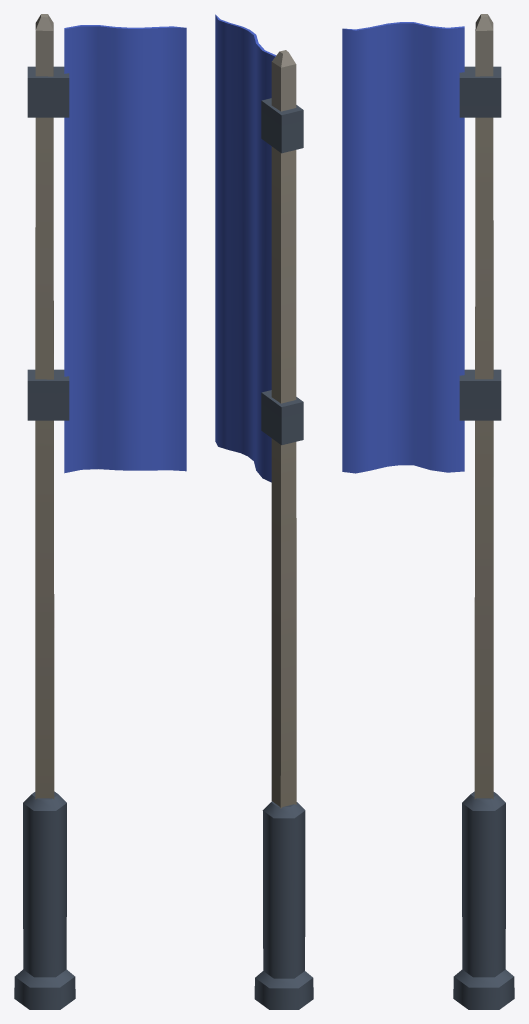
File: FlagRace_G.fbx
The picture shows the model from 3 angles, left to right: view 1: azimuth 90°, elevation 25°; view 2: azimuth 210°, elevation 25°; view 3: azimuth 270°, elevation 25°; orthographic projection. The views are drawn at different scales.
Parts seen in each view (by area): view 1: FlagRace_G; view 2: FlagRace_G; view 3: FlagRace_G.
Boxes of the visible parts, box(x1,y1,x2,y2) form: FlagRace_G: box(14, 14, 186, 1009); FlagRace_G: box(215, 14, 313, 1009); FlagRace_G: box(342, 14, 514, 1009).
Bounding box in the file's own units: 62.3 × 1269 × 202.
